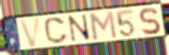5: (114, 8, 137, 38)
C: (43, 16, 69, 45)
M: (87, 10, 119, 41)
N: (67, 13, 93, 43)
S: (138, 6, 162, 37)
V: (18, 15, 43, 49)
